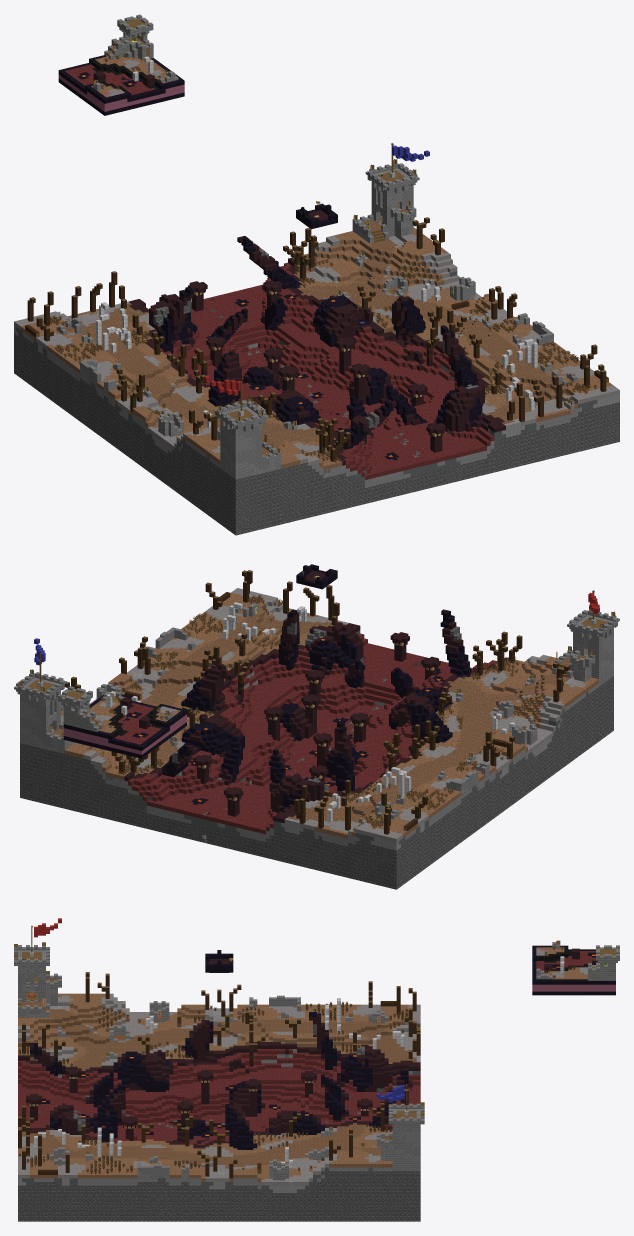
Rendered from minecraft.obj.
The picture shows the model from 3 angles, top to bottom: view 1: azimuth 30°, elevation 25°; view 2: azimuth 150°, elevation 25°; view 3: azimuth 270°, elevation 25°; orthographic projection. The views are drawn at different scales.
Bounding box in the file's own units: 105 × 55.5 × 152.
